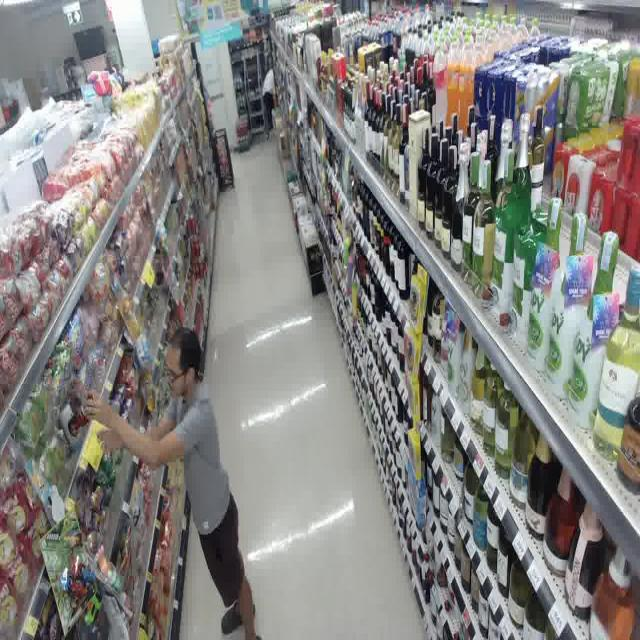pickup: (57, 330, 264, 640)
